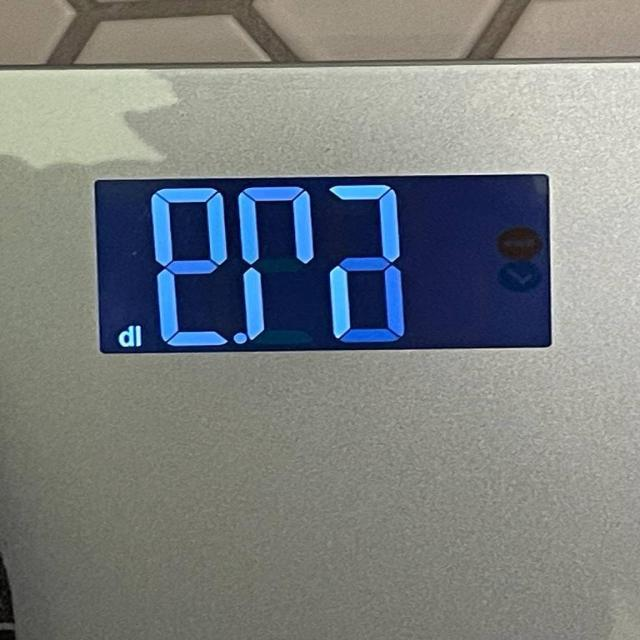ws: (1, 26, 640, 639)
